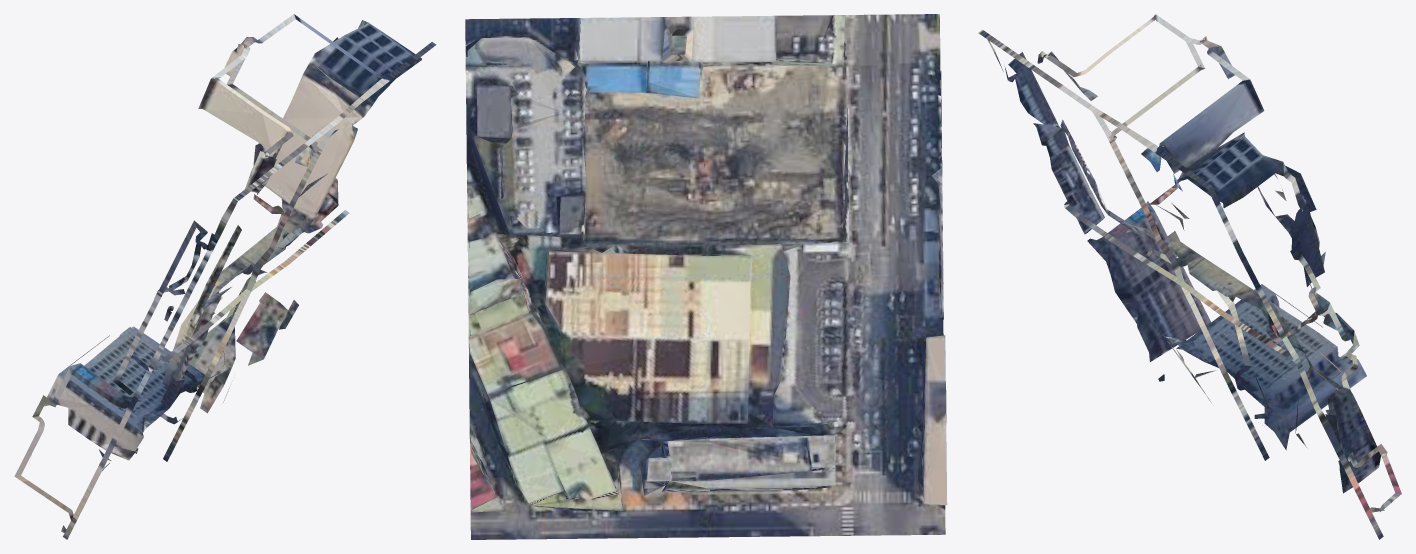
3 views of the same model, side by side, from view 1: azimuth 30°, elevation 25°; view 2: azimuth 150°, elevation 25°; view 3: azimuth 270°, elevation 25° (orthographic). The views are drawn at different scales.
Size of the model in its own units: 162 by 157 by 134.
Materials: 2 (2 with a texture image).
